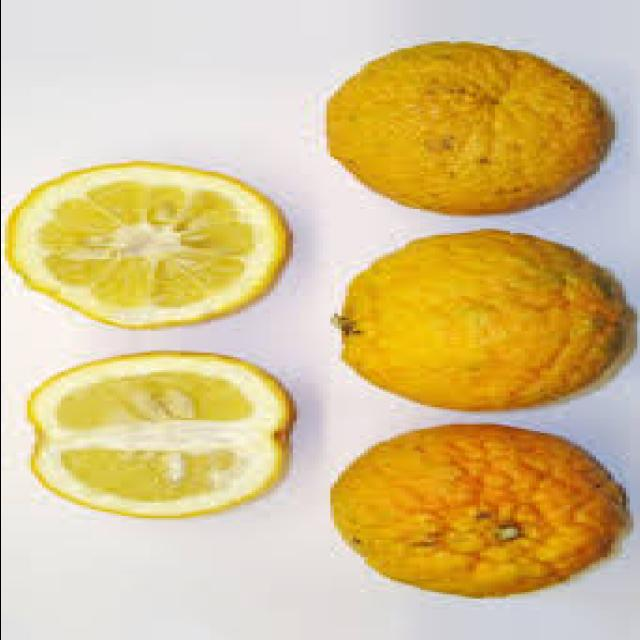orange: (328, 420, 631, 602)
